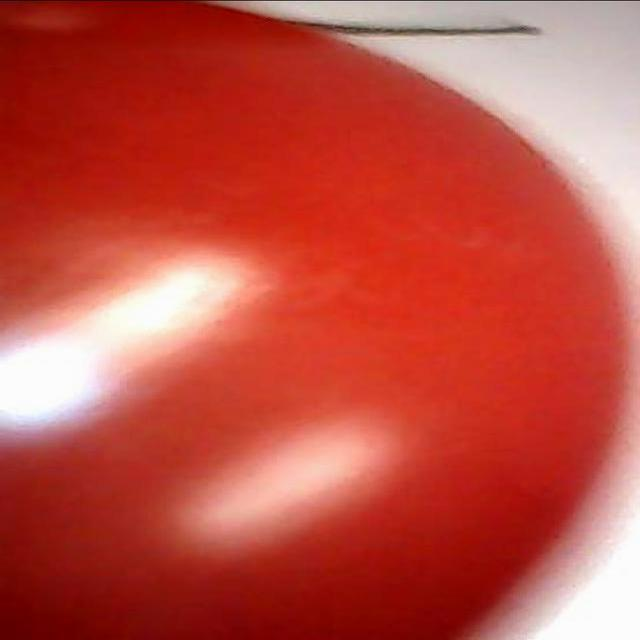Healthy Fruit: (0, 0, 417, 420)
